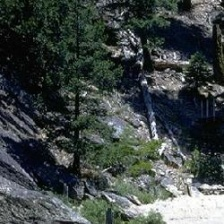neutral: (3, 1, 224, 221)
